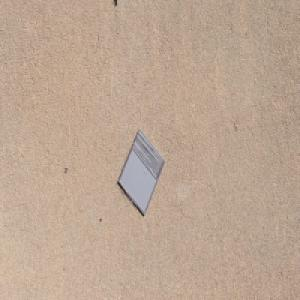PlasticPart: (117, 128, 165, 216)
